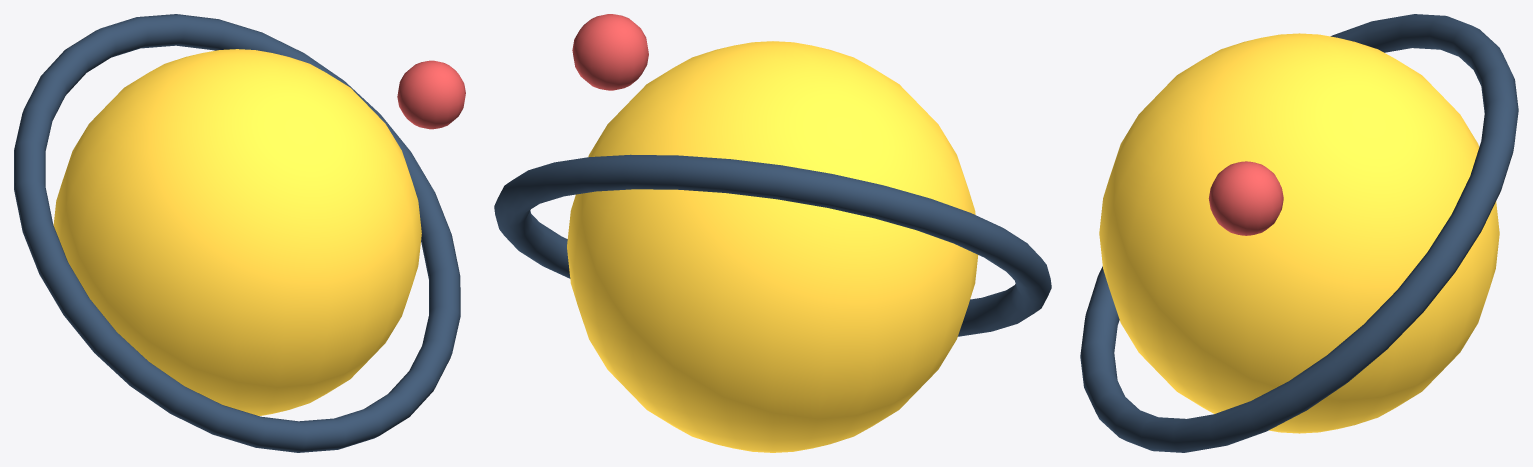
File: quark.glb
The picture shows the model from 3 angles, left to right: view 1: azimuth 30°, elevation 25°; view 2: azimuth 150°, elevation 25°; view 3: azimuth 270°, elevation 25°; orthographic projection. The views are drawn at different scales.
Visible parts, largest first — view 1: quark_quark_gold, quark_quark_orbit, quark_quark_accent; view 2: quark_quark_gold, quark_quark_orbit, quark_quark_accent; view 3: quark_quark_gold, quark_quark_orbit, quark_quark_accent.
Part boxes in pixels (<box>): quark_quark_gold: <box>53,49,421,415</box>; quark_quark_orbit: <box>14,14,460,452</box>; quark_quark_accent: <box>397,60,465,129</box>; quark_quark_gold: <box>567,41,978,452</box>; quark_quark_orbit: <box>494,154,1051,336</box>; quark_quark_accent: <box>572,14,648,90</box>; quark_quark_gold: <box>1099,33,1499,433</box>; quark_quark_orbit: <box>1080,14,1518,452</box>; quark_quark_accent: <box>1208,161,1283,235</box>.
Bounding box in the file's own units: 1.72 × 1.28 × 1.4.
